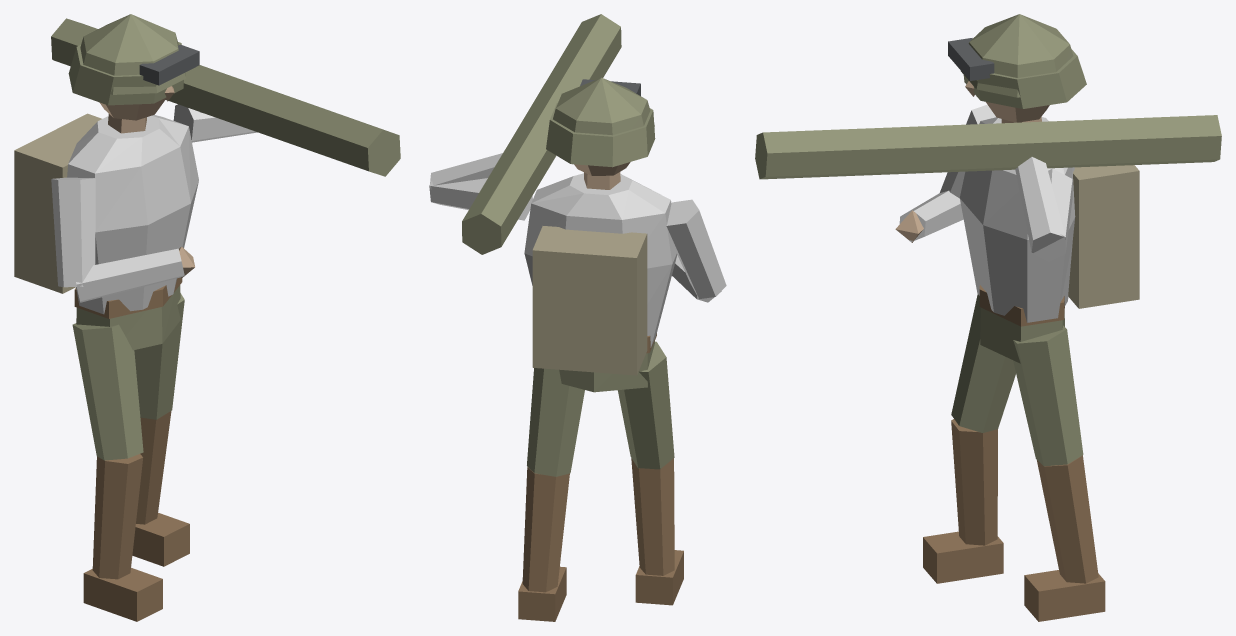
File: bazooka.glb
The picture shows the model from 3 angles, left to right: view 1: azimuth 30°, elevation 25°; view 2: azimuth 150°, elevation 25°; view 3: azimuth 270°, elevation 25°; orthographic projection. The views are drawn at different scales.
Visible parts, largest first — view 1: LOD0; view 2: LOD0; view 3: LOD0.
Boxes of the visible parts, x1,y1,x2,y2 form: LOD0: (14,14,400,621); LOD0: (429,14,726,621); LOD0: (755,14,1221,621).
Size of what is drawn, in the model's own units: 0.4904 by 0.981 by 0.723.
